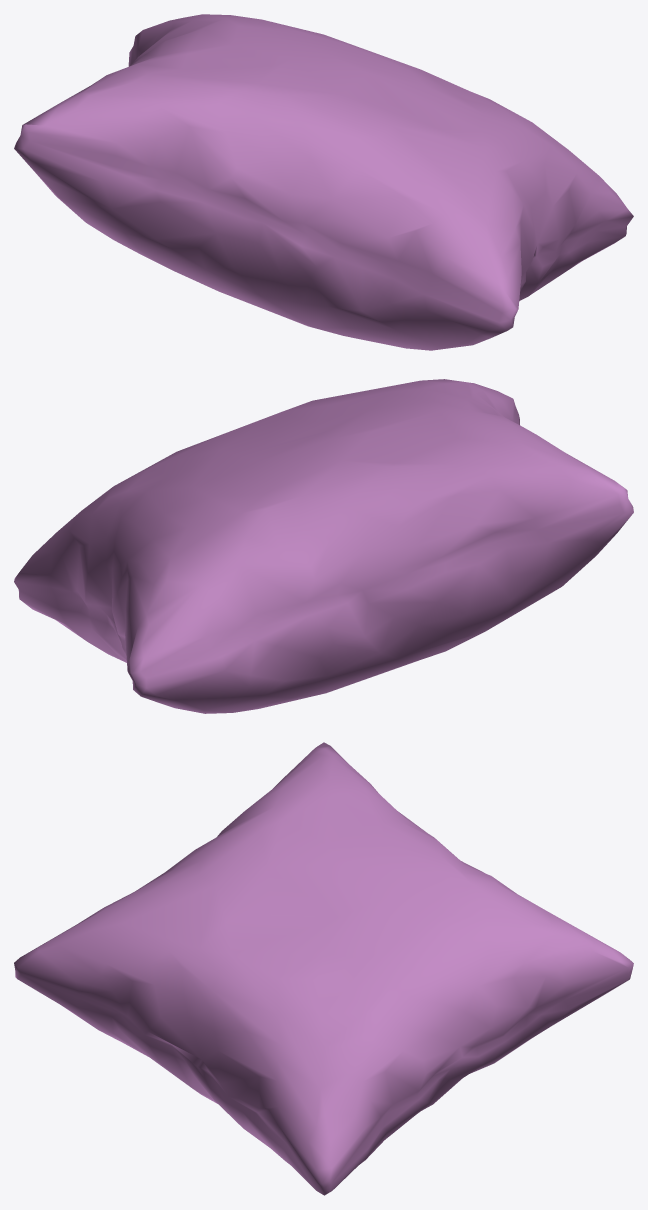
File: Almohadoncito.fbx
3 renders of one model, top to bottom at view 1: azimuth 30°, elevation 25°; view 2: azimuth 150°, elevation 25°; view 3: azimuth 270°, elevation 25°, orthographic. The views are drawn at different scales.
Parts seen in each view (by area): view 1: Almohadon1; view 2: Almohadon1; view 3: Almohadon1.
Part boxes in pixels (x1,y1,x2,y2): Almohadon1: (14, 14, 633, 350); Almohadon1: (14, 379, 633, 713); Almohadon1: (14, 742, 633, 1195).
Size of the model in its own units: 79.74 by 36.62 by 84.01.
